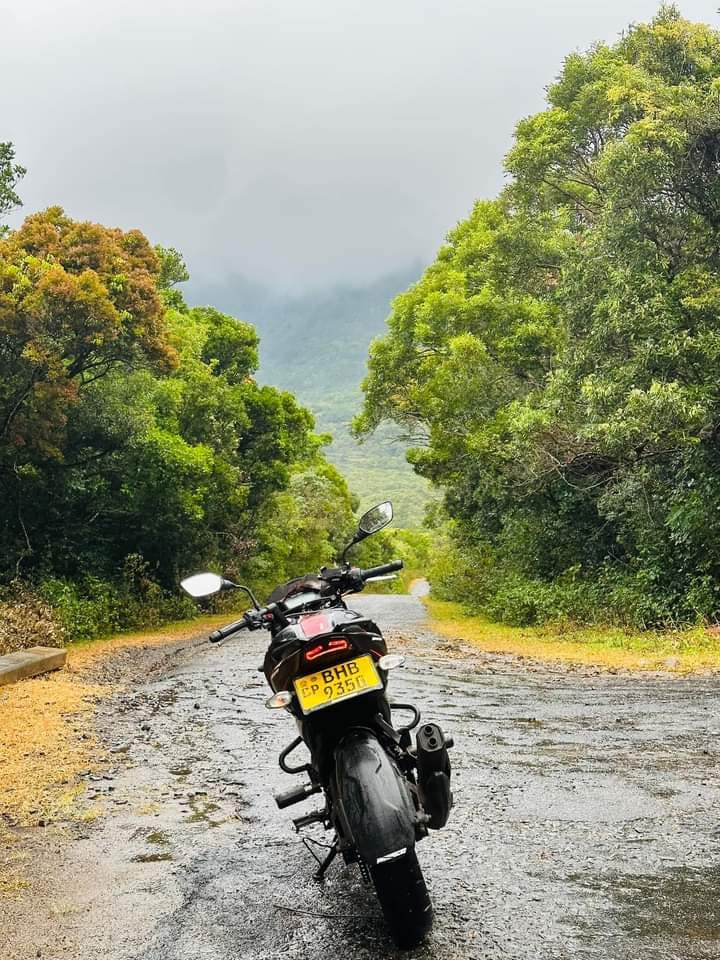number_plate: (294, 654, 381, 713)
